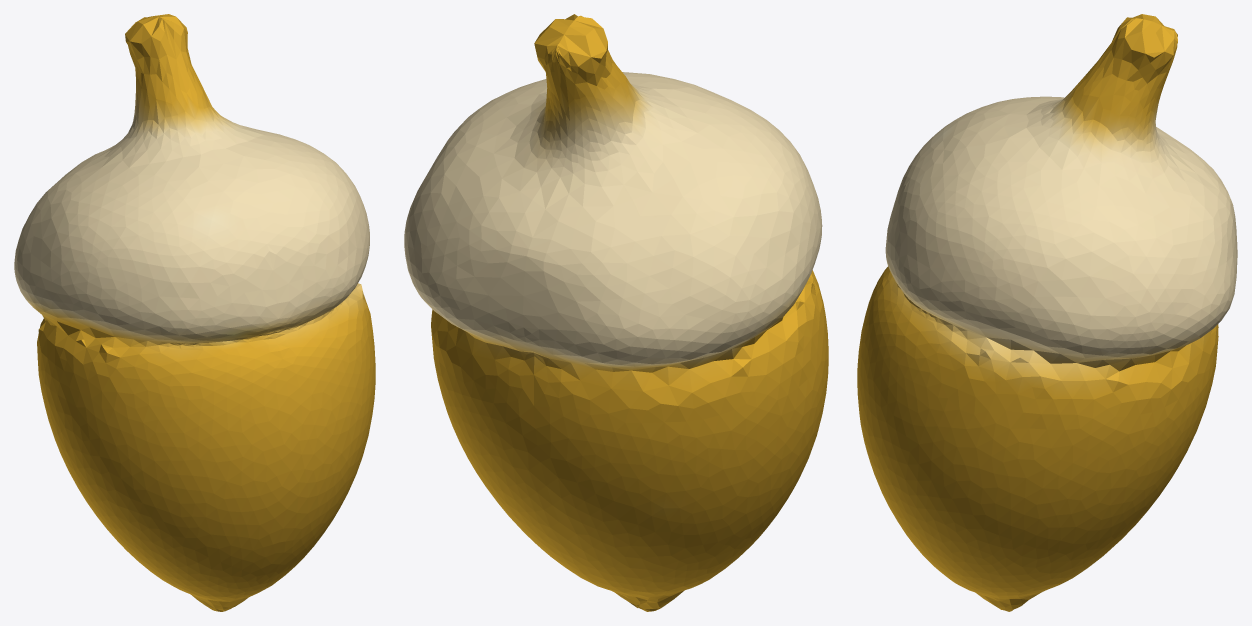
File: acorn2.OBJ
The picture shows the model from 3 angles, left to right: view 1: azimuth 30°, elevation 25°; view 2: azimuth 150°, elevation 25°; view 3: azimuth 270°, elevation 25°; orthographic projection. The views are drawn at different scales.
Visible parts, largest first — view 1: ZBrush_defualt_group; view 2: ZBrush_defualt_group; view 3: ZBrush_defualt_group.
Part boxes in pixels (box(x1,y1,x2,y2)): ZBrush_defualt_group: box(14, 14, 375, 611); ZBrush_defualt_group: box(404, 14, 828, 611); ZBrush_defualt_group: box(857, 14, 1237, 611).
Bounding box in the file's own units: 217 × 367 × 213.
Materials: 1 (1 with a texture image).
